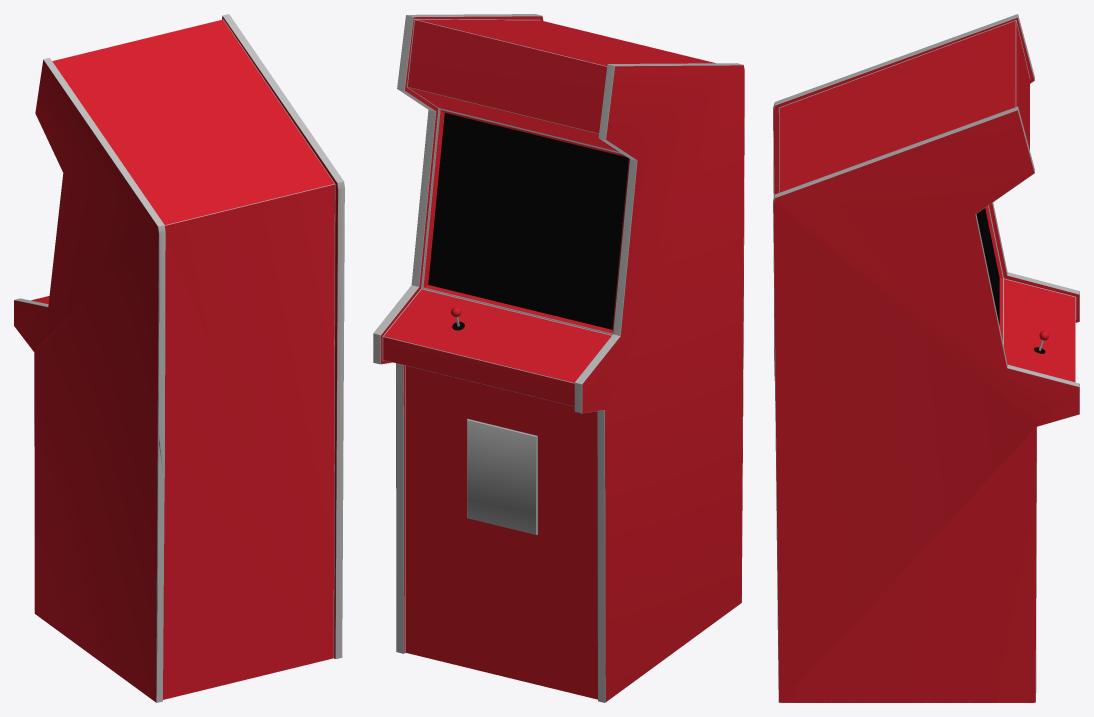
Rendered from arcademachine.fbx.
The picture shows the model from 3 angles, left to right: view 1: azimuth 30°, elevation 25°; view 2: azimuth 150°, elevation 25°; view 3: azimuth 270°, elevation 25°; orthographic projection. The views are drawn at different scales.
Parts seen in each view (by area): view 1: ArcadeMachine; view 2: ArcadeMachine; view 3: ArcadeMachine.
Part boxes in pixels (x1,y1,x2,y2): ArcadeMachine: (14,14,344,702); ArcadeMachine: (373,14,744,702); ArcadeMachine: (773,14,1079,702).
Size of the model in its own units: 71 by 205 by 95.89.
